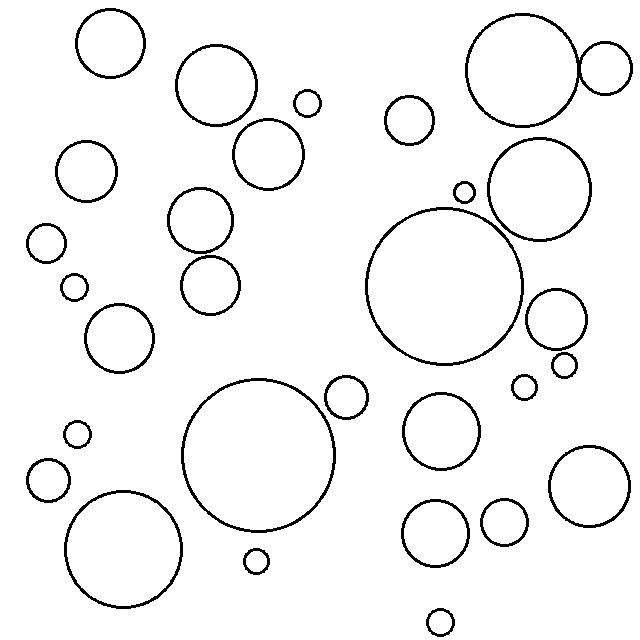circle: (364, 206, 526, 367), (179, 375, 339, 535), (64, 489, 185, 610), (462, 10, 582, 132), (486, 134, 592, 241), (175, 42, 260, 128), (546, 445, 631, 530), (402, 390, 483, 475), (231, 115, 307, 192), (83, 301, 157, 377), (74, 7, 148, 81), (398, 497, 472, 570), (166, 184, 234, 255), (55, 136, 120, 205), (525, 287, 590, 352), (180, 255, 244, 317), (581, 42, 636, 99), (383, 92, 438, 148), (479, 495, 532, 550), (24, 455, 73, 505), (322, 374, 373, 422), (24, 221, 69, 266), (59, 270, 91, 304), (62, 418, 96, 450), (293, 86, 324, 121), (426, 606, 456, 638), (242, 546, 272, 576), (511, 371, 537, 402), (550, 351, 577, 379), (451, 179, 479, 204)
